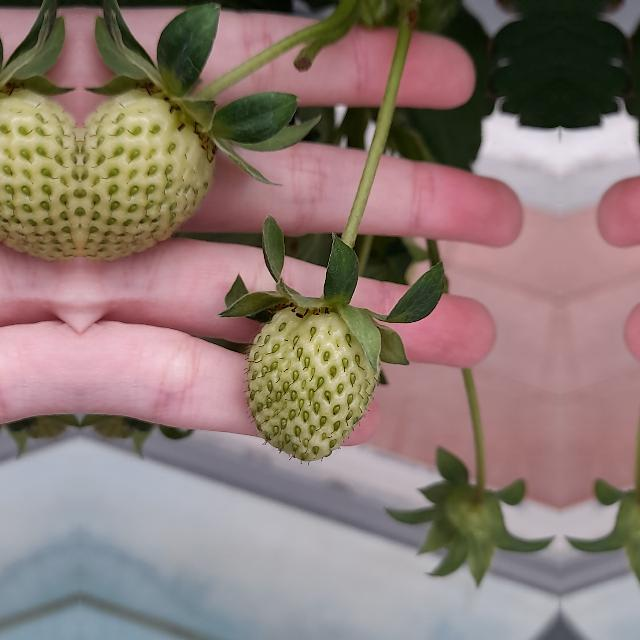Health_25: (80, 84, 218, 262), (246, 306, 380, 460), (0, 84, 80, 262)
